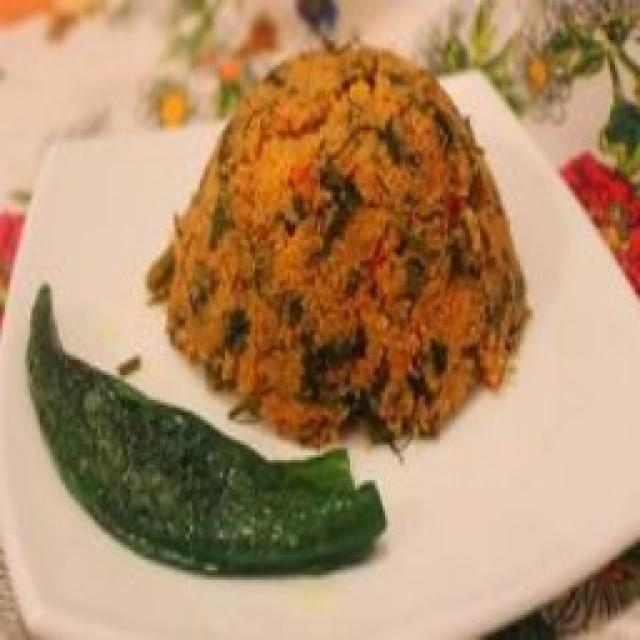Couscous: (145, 45, 532, 455)
